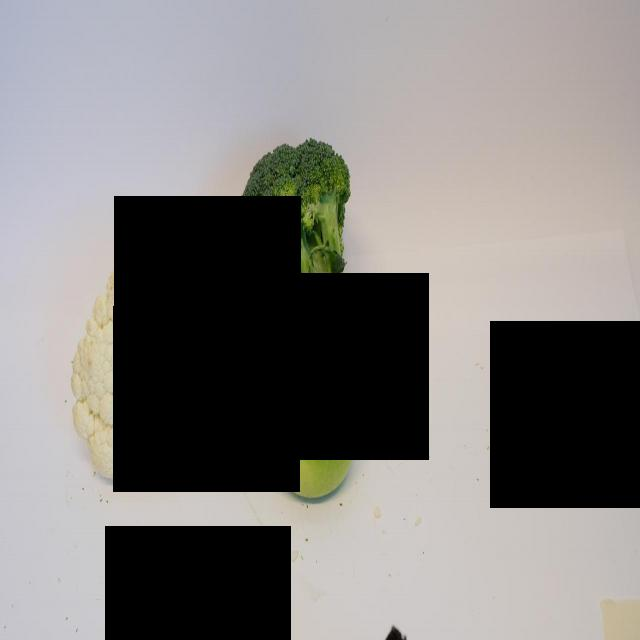apple: (260, 330, 360, 504)
broccoli: (223, 131, 368, 386)
cauliflower: (65, 228, 238, 490)
